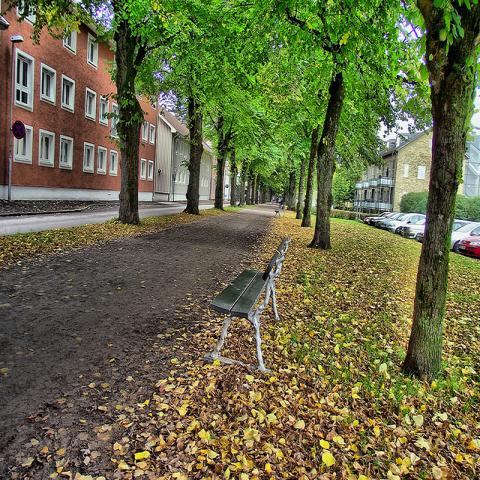car: (450, 221, 480, 254), (386, 213, 426, 234), (458, 223, 480, 260), (400, 215, 426, 239), (370, 211, 404, 227), (374, 213, 406, 228), (364, 212, 391, 224), (451, 219, 469, 234)
